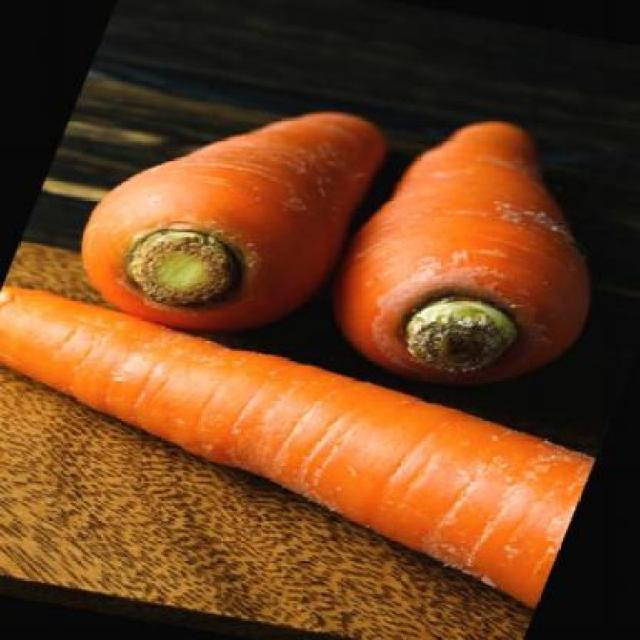carrot: (0, 280, 622, 612), (303, 104, 639, 404), (50, 73, 399, 350)
